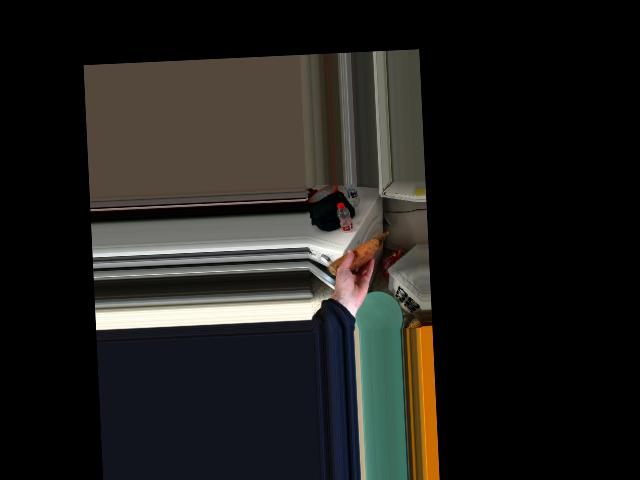sweet_potato: (340, 237, 376, 271)
